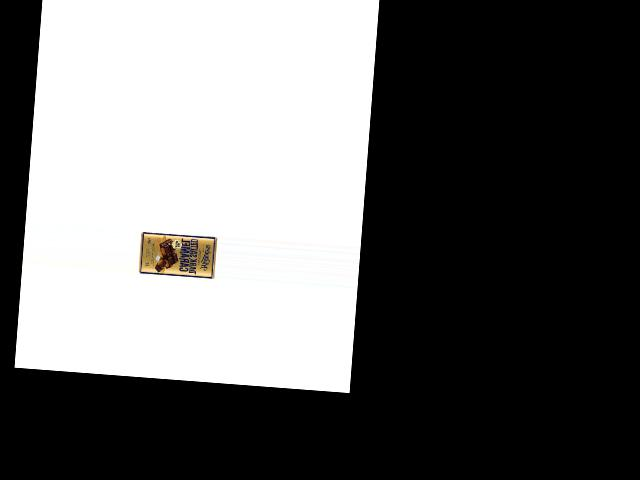chocolate: (136, 228, 216, 280)
